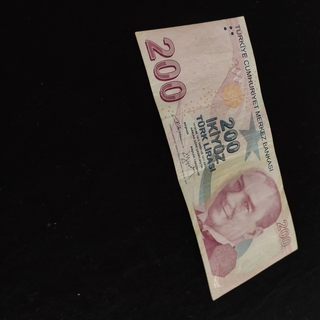200TLFront: (134, 15, 298, 301)
